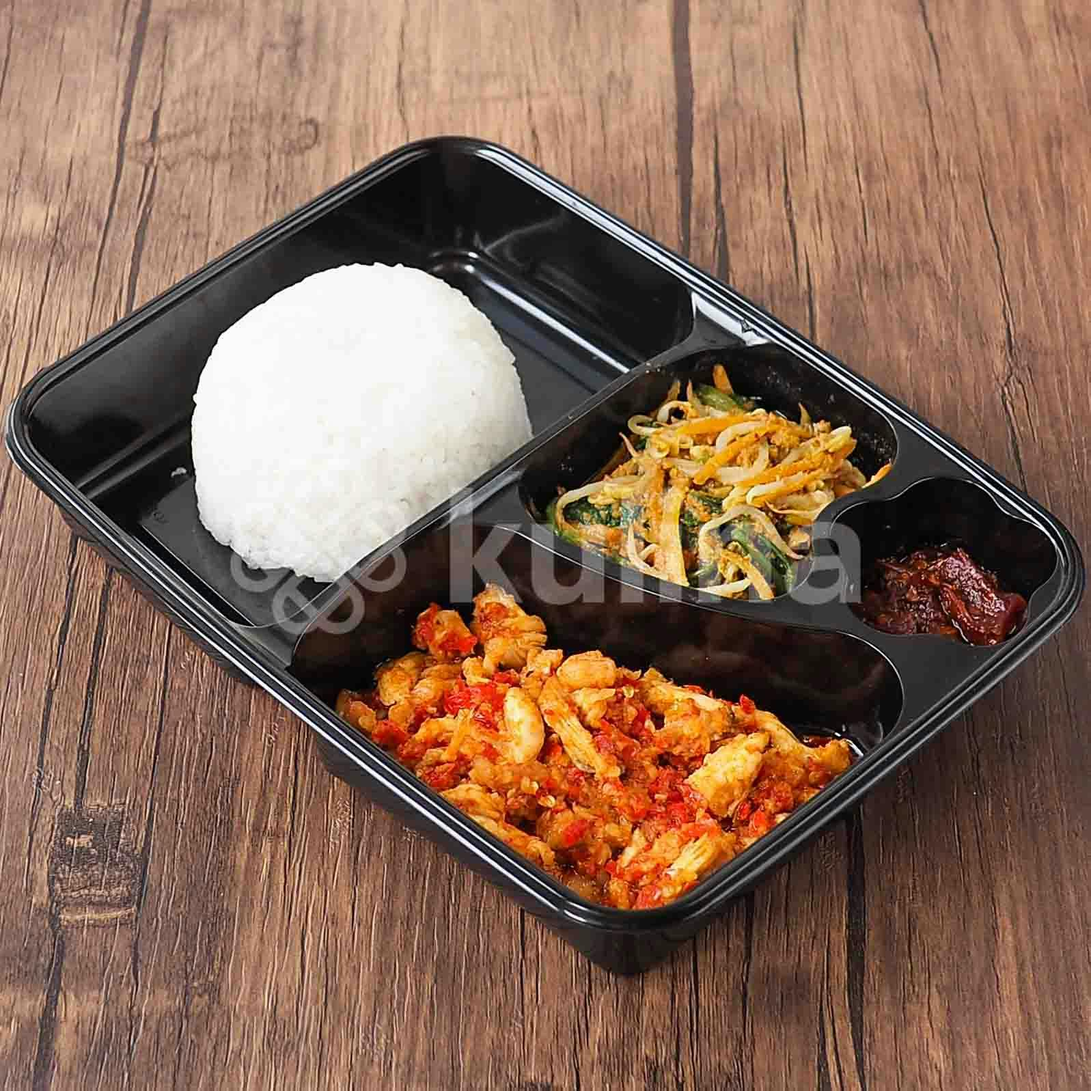buah_sayur_lainnya: (648, 399, 772, 552), (894, 551, 998, 603)
daging: (427, 629, 536, 784)
makanan_berpati: (263, 315, 446, 488)
